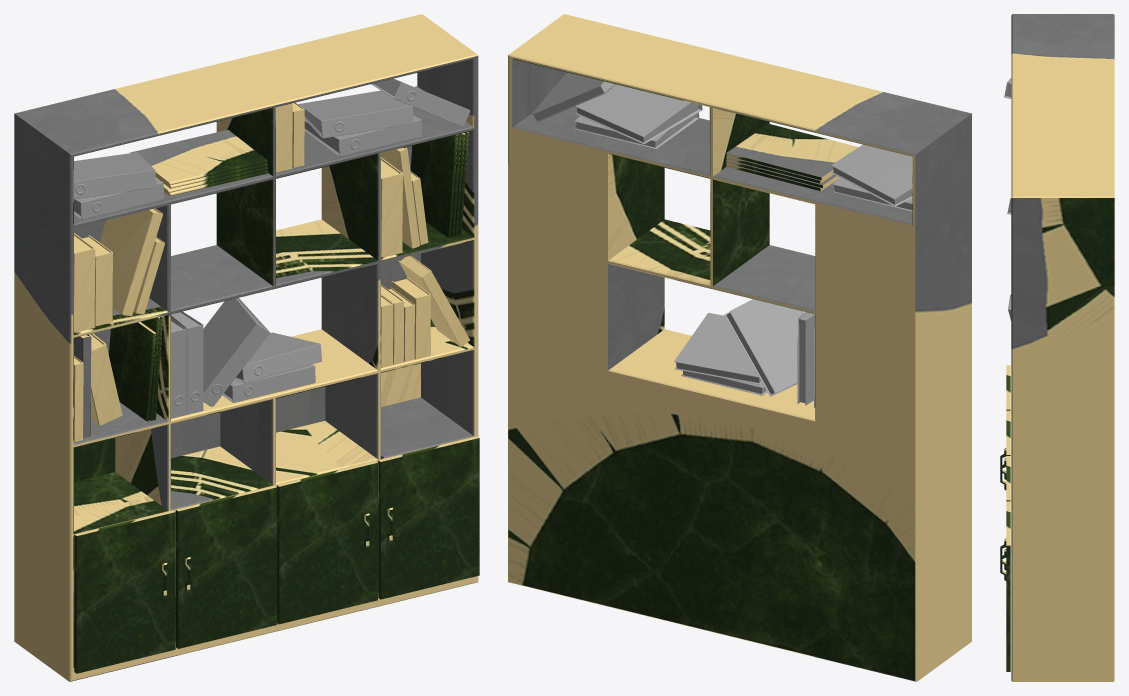
The model's file is NewBookShelf.fbx.
3 views of the same model, side by side, from view 1: azimuth 30°, elevation 25°; view 2: azimuth 150°, elevation 25°; view 3: azimuth 270°, elevation 25° (orthographic). The views are drawn at different scales.
Parts seen in each view (by area): view 1: pCube106; view 2: pCube106; view 3: pCube106.
Boxes of the visible parts, box(x1,y1,x2,y2) form: pCube106: box(14, 14, 479, 681); pCube106: box(508, 14, 971, 681); pCube106: box(1000, 14, 1114, 681).
Bounding box in the file's own units: 1.87 × 2.3 × 0.4934.
